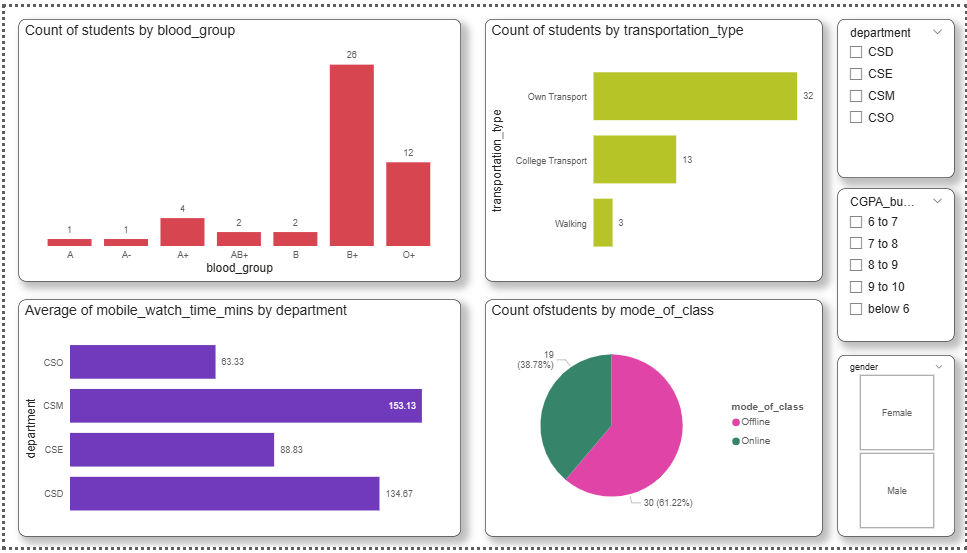

What the dashboard file says about the page in this screenshot:
{"tool":"powerbi","page":{"name":"Page 2","canvas":[1280,720],"ordinal":1},"visuals":[{"type":"pieChart","title":"Count ofstudents by mode_of_class","fields":{"Y":["Count(Query1.roll_number)"],"Category":["Query1.mode_of_class"]},"box":[640,390,450,316],"z":0},{"type":"columnChart","title":"Count of students by blood_group","fields":{"Category":["Query1.blood_group"],"Y":["Count(Query1.roll_number)"]},"box":[18,16,590,350],"z":1000},{"type":"barChart","title":"Count of students by transportation_type","fields":{"Category":["Query1.transportation_type"],"Y":["Count(Query1.roll_number)"]},"box":[640,16,450,350],"z":2000},{"type":"slicer","fields":{"Values":["Query1.department"]},"box":[1110,16,156,212],"z":3000},{"type":"slicer","fields":{"Values":["Query1.CGPA_bucket"]},"box":[1110,242,156,204],"z":4000},{"type":"barChart","fields":{"Category":["Query1.department"],"Y":["Avg(Query1.mobile_watch_time_mins)"]},"box":[18,390,590,316],"z":5000},{"type":"slicer","fields":{"Values":["Query1.gender"]},"box":[1109.1,463.6,156.4,241.8],"z":6000}]}

Visuals, with their boxes in screenshot pixels (x1, y1, x2, y2), scaled from the page's 1280x720 canvas onto the 967x553 screenshot:
"Count ofstudents by mode_of_class" pieChart: <bbox>484, 300, 823, 542</bbox>
"Count of students by blood_group" columnChart: <bbox>14, 12, 459, 281</bbox>
"Count of students by transportation_type" barChart: <bbox>484, 12, 823, 281</bbox>
slicer - Query1.department: <bbox>839, 12, 956, 175</bbox>
slicer - Query1.CGPA_bucket: <bbox>839, 186, 956, 343</bbox>
barChart - Query1.department x Avg(Query1.mobile_watch_time_mins): <bbox>14, 300, 459, 542</bbox>
slicer - Query1.gender: <bbox>838, 356, 956, 542</bbox>
